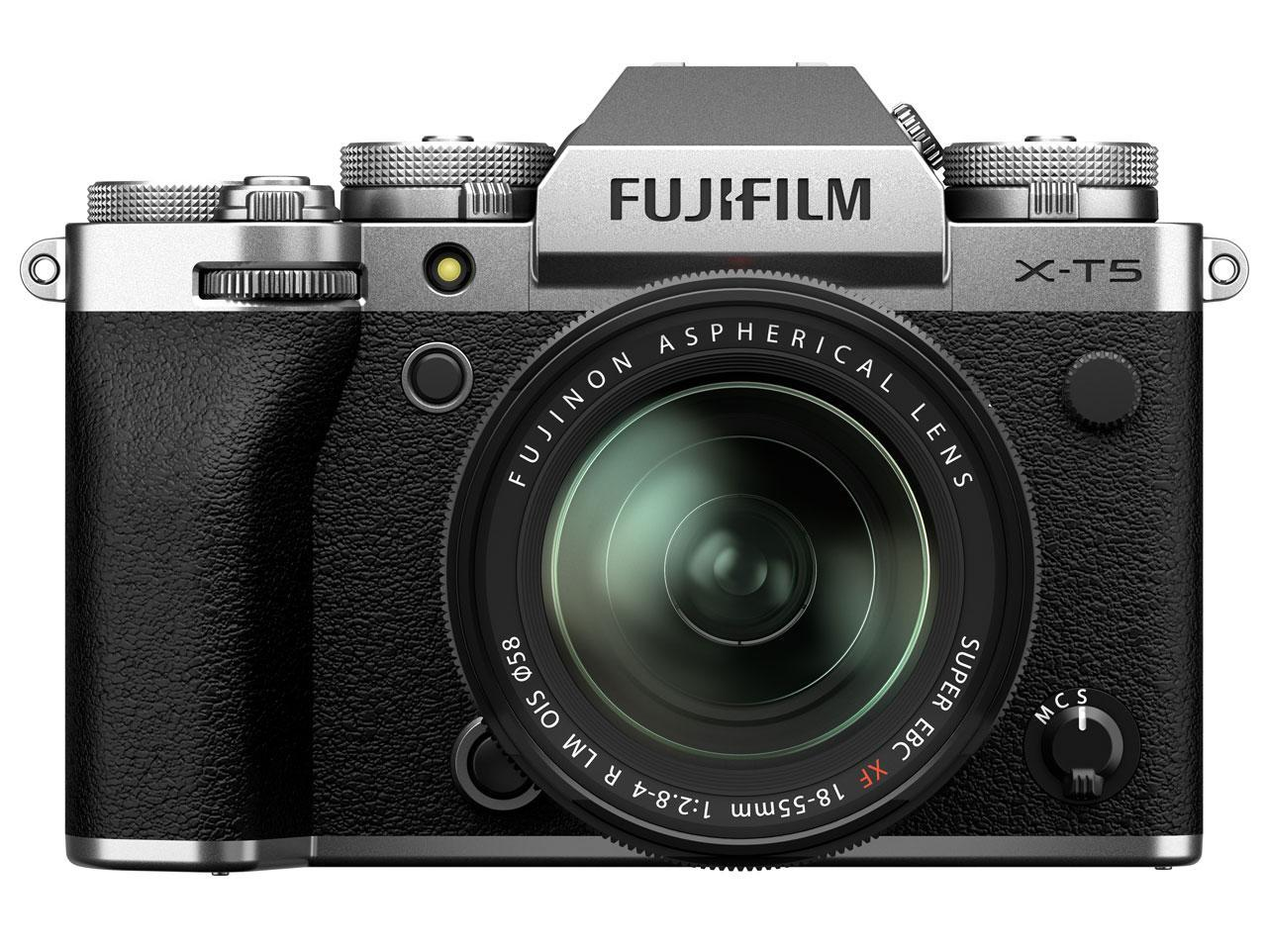degital-camera: (32, 47, 1211, 888)
